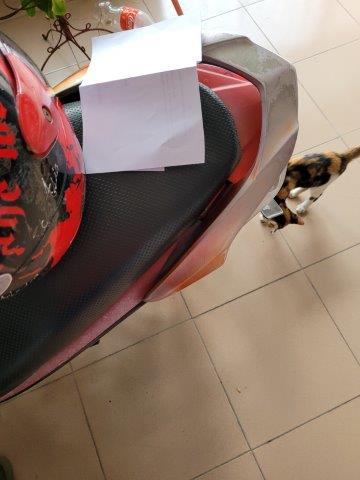botolplastik: (91, 2, 147, 28)
kertas: (81, 15, 209, 172)
